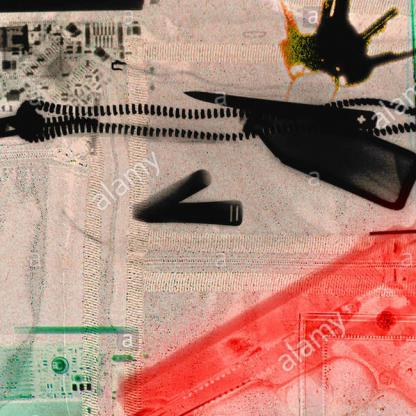gun: (129, 222, 415, 415)
